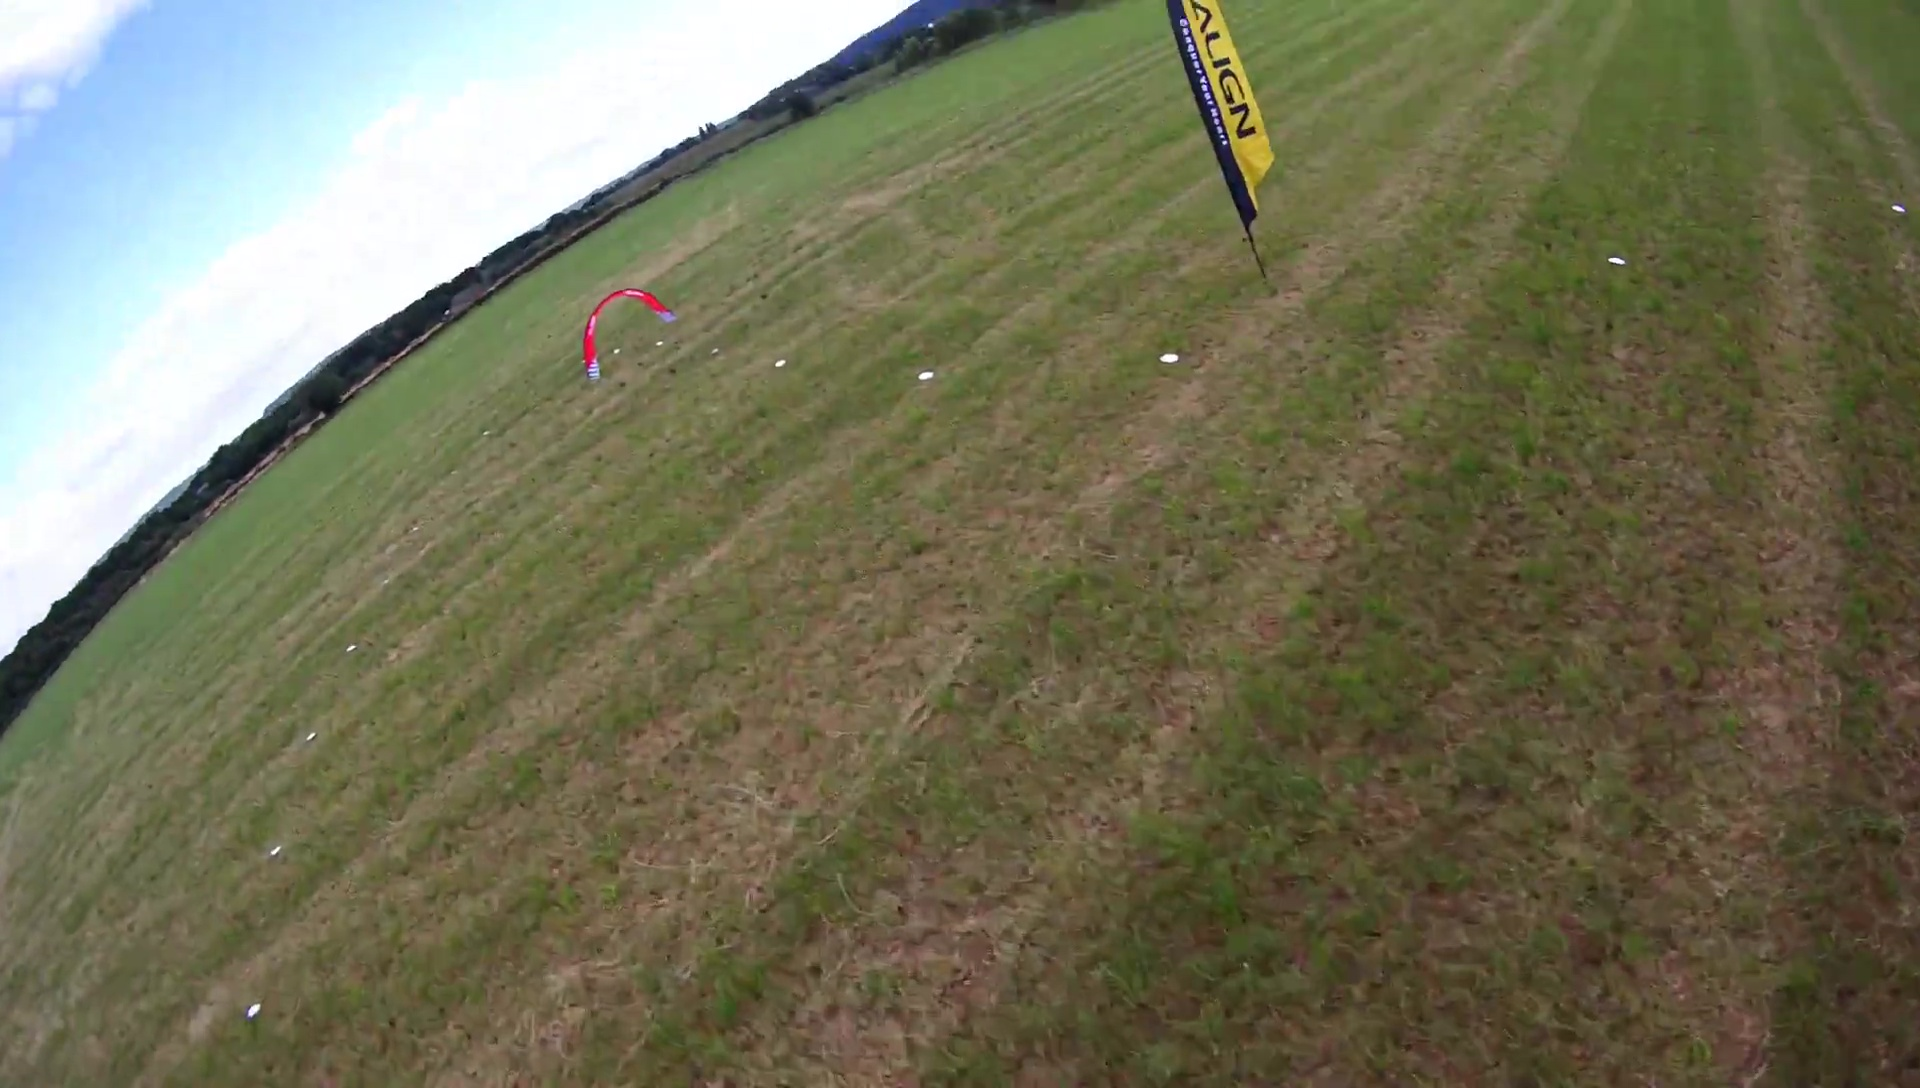gate: (582, 286, 678, 382)
